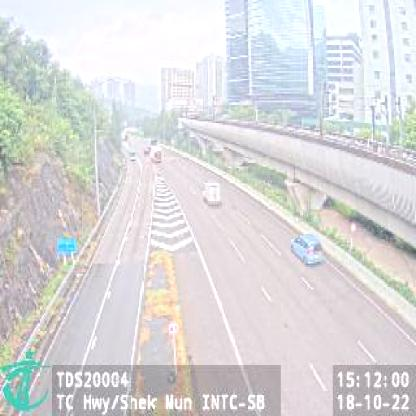Car: (290, 232, 325, 266), (202, 179, 222, 208)
